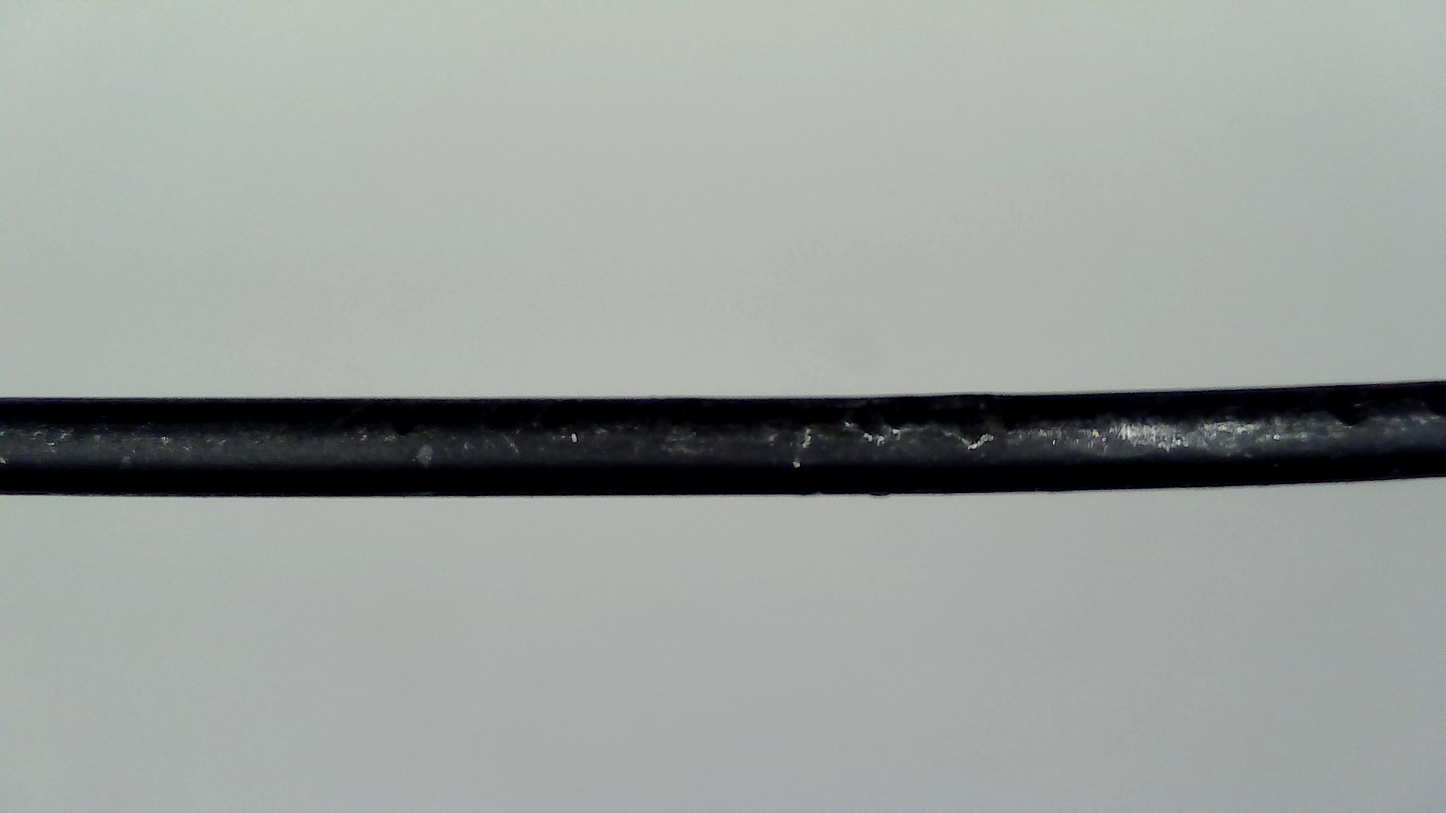defect: (818, 390, 1379, 436)
